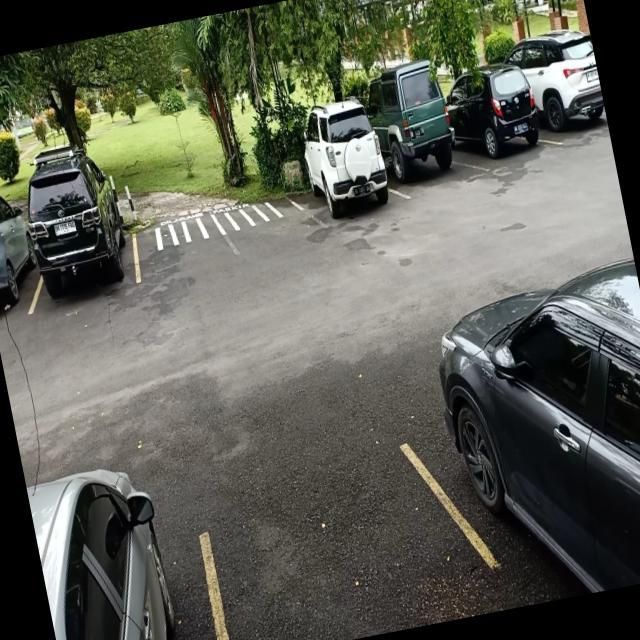occupied: (8, 167, 146, 314), (295, 122, 401, 232), (376, 92, 470, 204), (446, 77, 548, 180)
